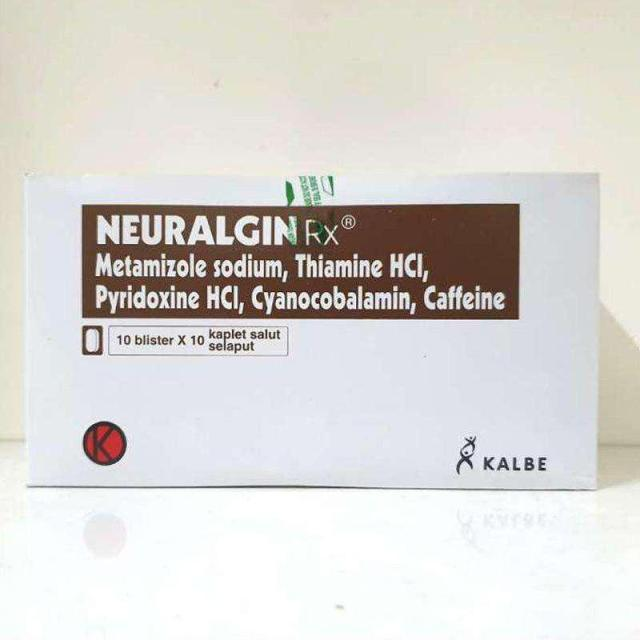drug-name: (95, 210, 342, 247)
